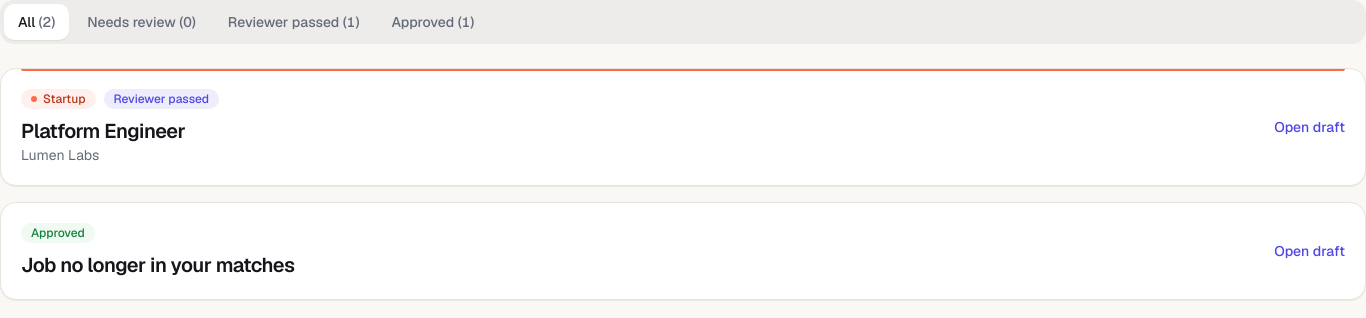
Test: DraftsList › lists drafts with job info, status counts and a filter
Check: the link "Job no longer in your matches" is shown, box [21,252,294,278]
Check: the radio button labelled "All (2)" is shown, box [4,4,69,40]
Click the radio button labelled "Approved (1)". click: click(433, 22)
box: [377,4,488,40]
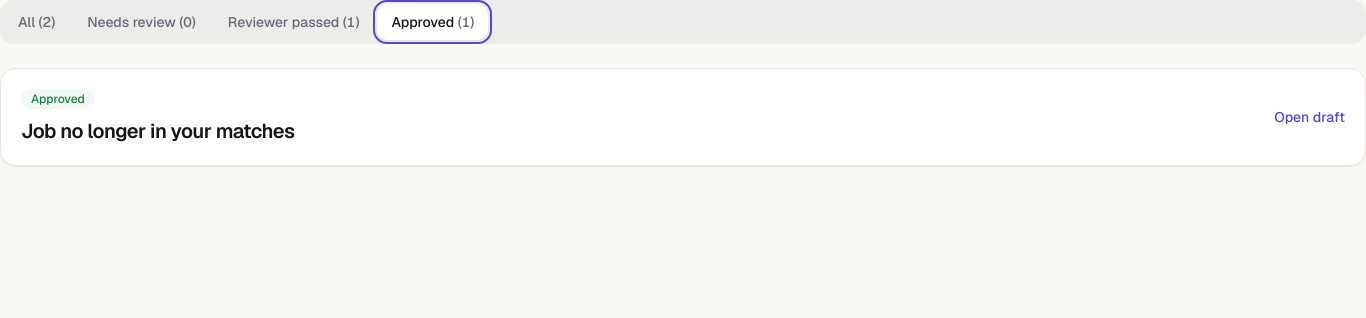
Check: the link "Platform Engineer" is gone
